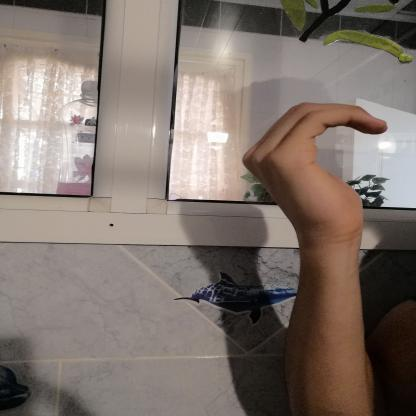HAA: (224, 92, 404, 250)
